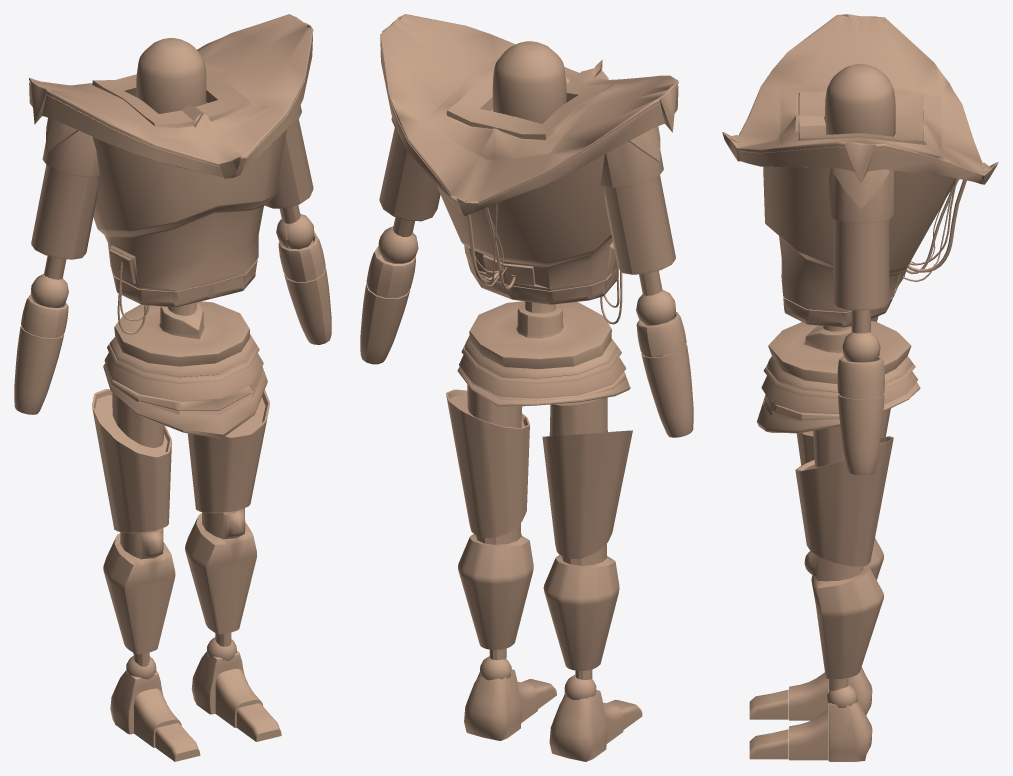
The model's file is robot_base_v1.fbx.
The picture shows the model from 3 angles, left to right: view 1: azimuth 30°, elevation 25°; view 2: azimuth 150°, elevation 25°; view 3: azimuth 270°, elevation 25°; orthographic projection. The views are drawn at different scales.
Visible parts, largest first — view 1: Cylinder030; view 2: Cylinder030; view 3: Cylinder030.
Boxes of the visible parts, x1=… form: Cylinder030: x1=14, y1=14, x2=331, y2=761; Cylinder030: x1=360, y1=14, x2=693, y2=761; Cylinder030: x1=722, y1=14, x2=998, y2=761.
Size of the model in its own units: 42.92 by 87.49 by 32.96.
